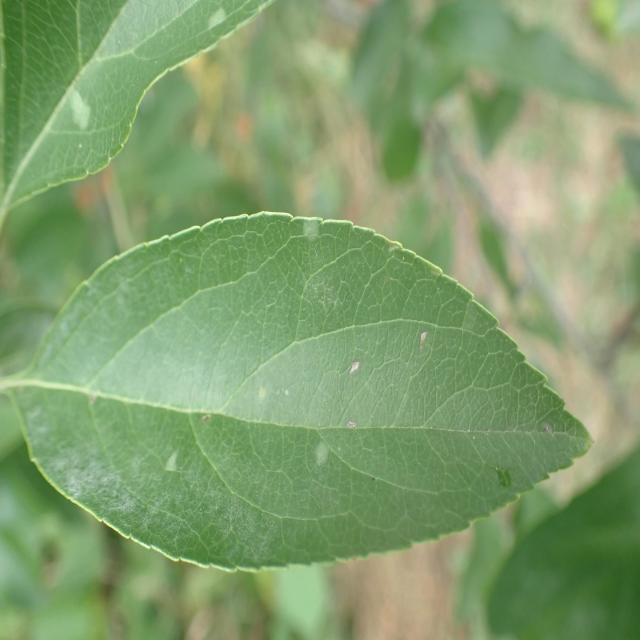Powdery_mildew: (34, 231, 446, 583), (57, 0, 257, 187)
